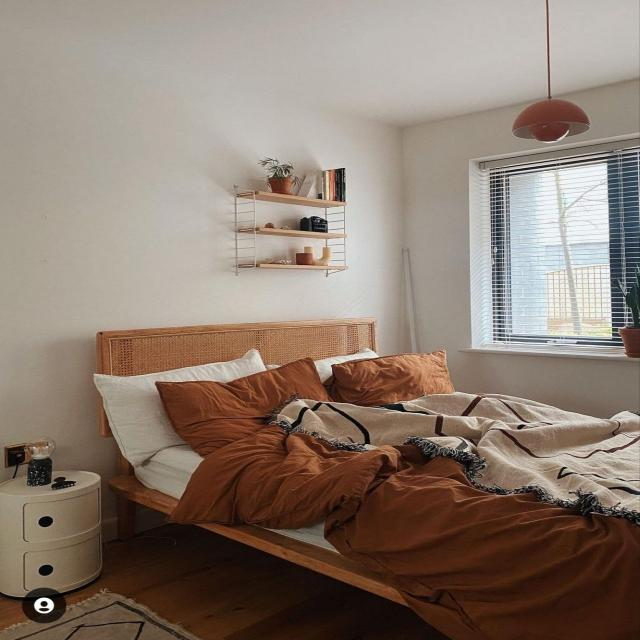bed: (95, 334, 640, 604)
